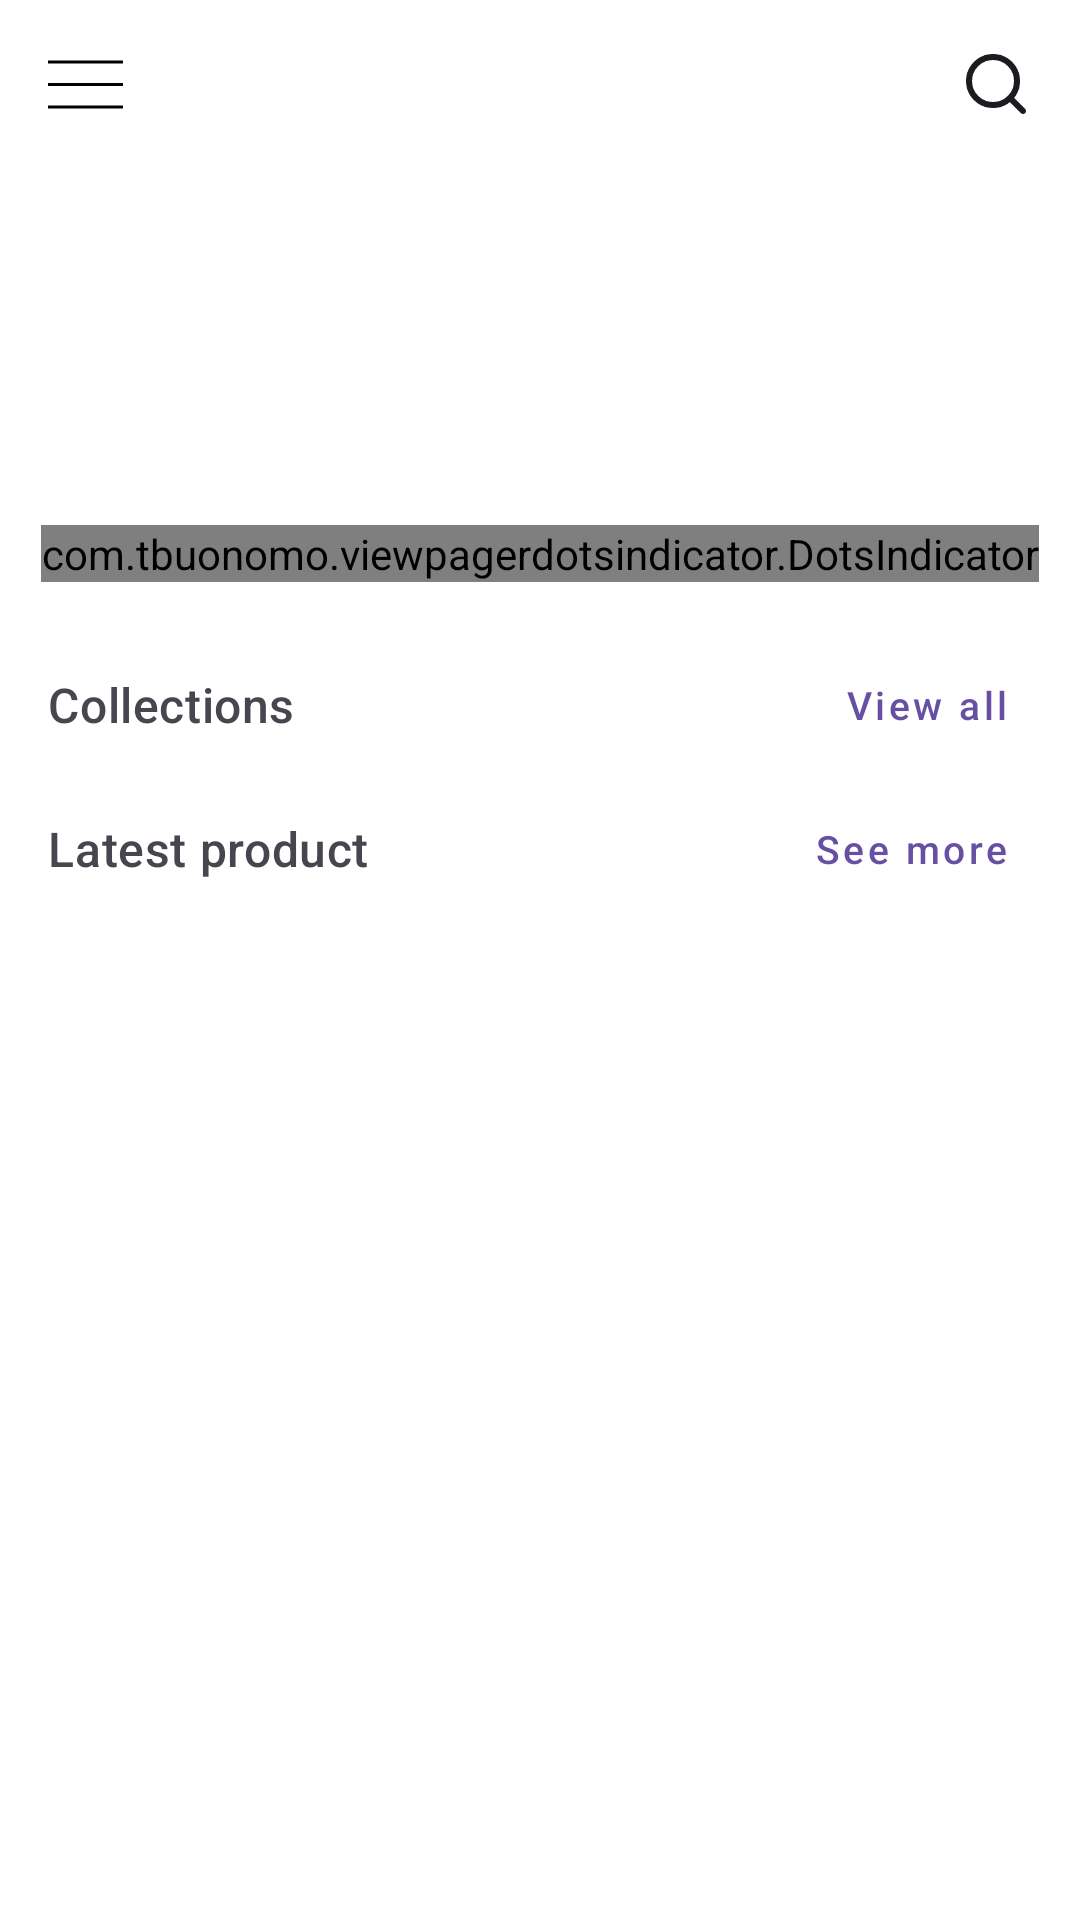

Icon bounding boxes for this 1080×1920 phone screenshot, format (left=x1, top=y1, right=x2, bottom=y2):
menu: (left=48, top=60, right=123, bottom=109)
search: (left=966, top=54, right=1026, bottom=114)
